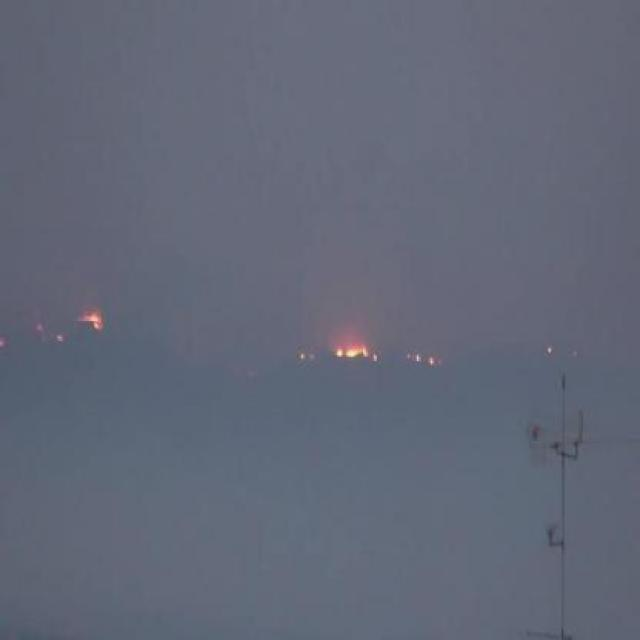Fire: (334, 342, 376, 364), (79, 311, 104, 334)
